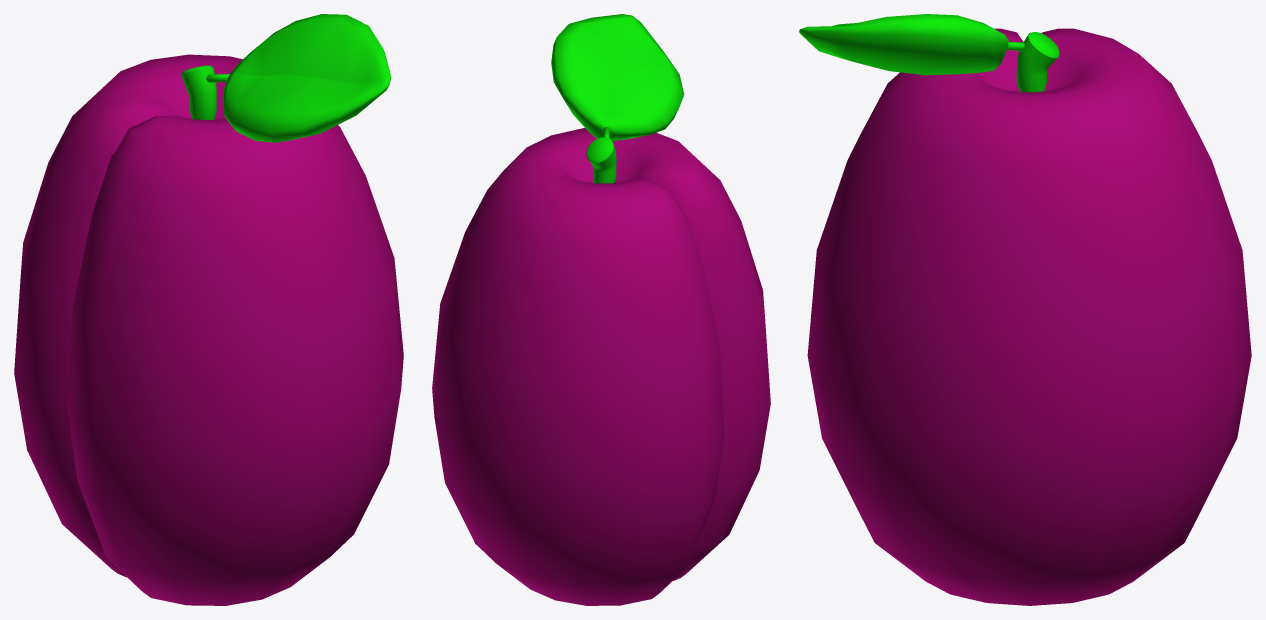
Rendered from Plum.fbx.
3 renders of one model, left to right at view 1: azimuth 30°, elevation 25°; view 2: azimuth 150°, elevation 25°; view 3: azimuth 270°, elevation 25°, orthographic. The views are drawn at different scales.
Visible parts, largest first — view 1: Plum_V1_00; view 2: Plum_V1_00; view 3: Plum_V1_00.
Boxes of the visible parts, <box> form: Plum_V1_00: <box>14,14,403,605</box>; Plum_V1_00: <box>432,14,770,605</box>; Plum_V1_00: <box>799,14,1251,605</box>.
Bounding box in the file's own units: 299 × 506 × 340.
